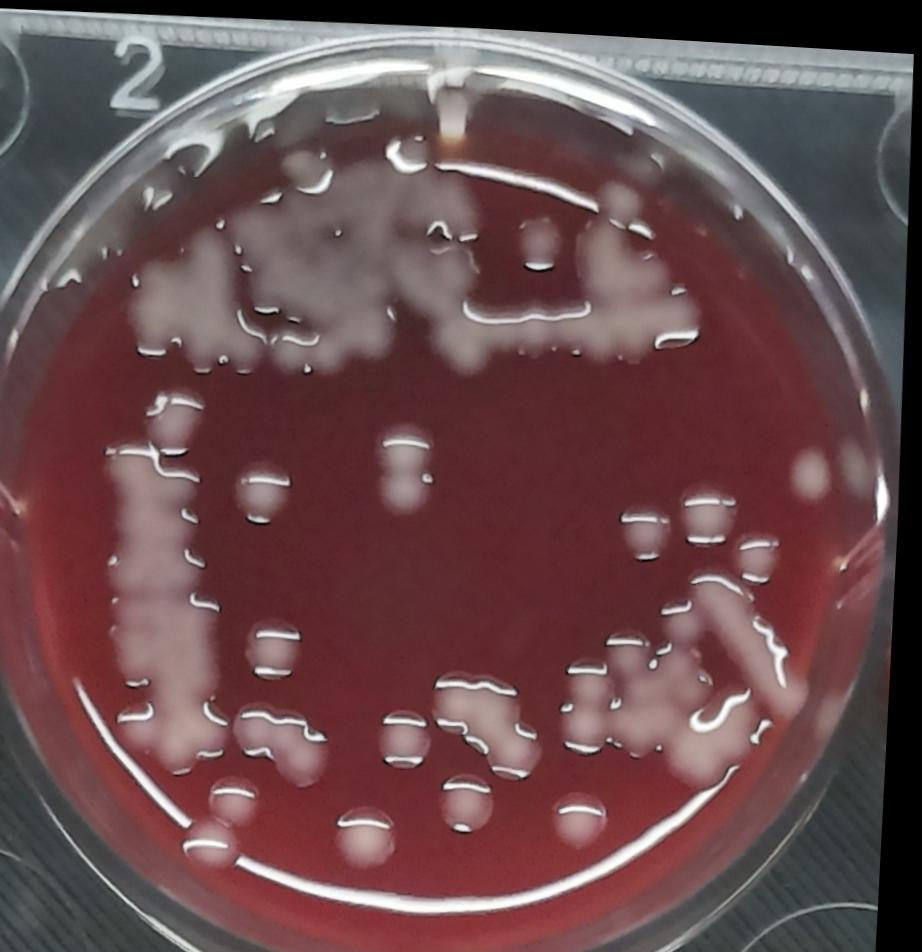vharveyi: (82, 429, 251, 784), (120, 218, 276, 395), (691, 554, 830, 730), (370, 419, 444, 512), (337, 795, 416, 871), (441, 760, 512, 834)
